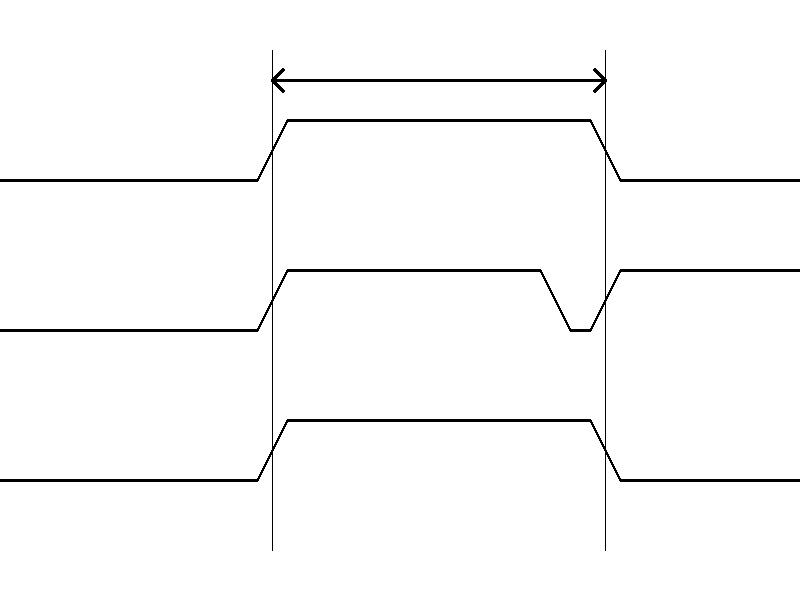double_arrow: (272, 65, 605, 95)
